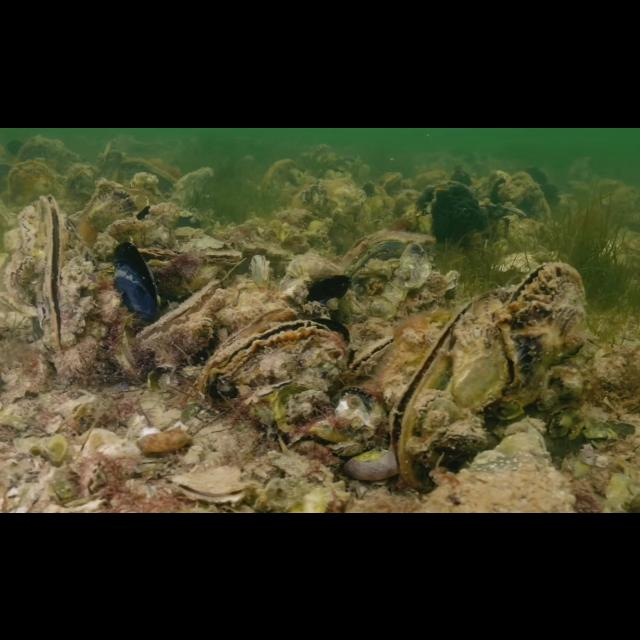Oyster-Closed: (136, 274, 222, 340), (335, 229, 435, 277), (110, 240, 162, 328), (138, 236, 242, 266), (413, 386, 453, 416), (17, 206, 41, 254), (0, 287, 38, 317), (325, 436, 367, 456), (10, 256, 38, 282)
Oyster-Open: (390, 282, 514, 490), (201, 319, 347, 397), (502, 259, 584, 397), (32, 192, 76, 354), (169, 460, 249, 504), (347, 335, 395, 375)
